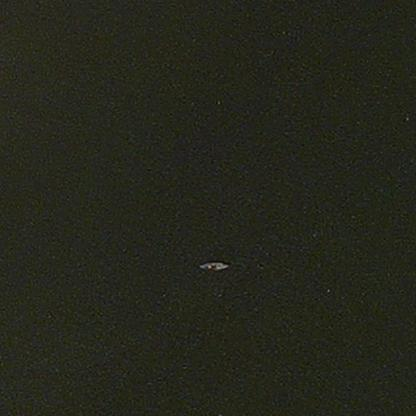ship: (197, 258, 230, 273)
